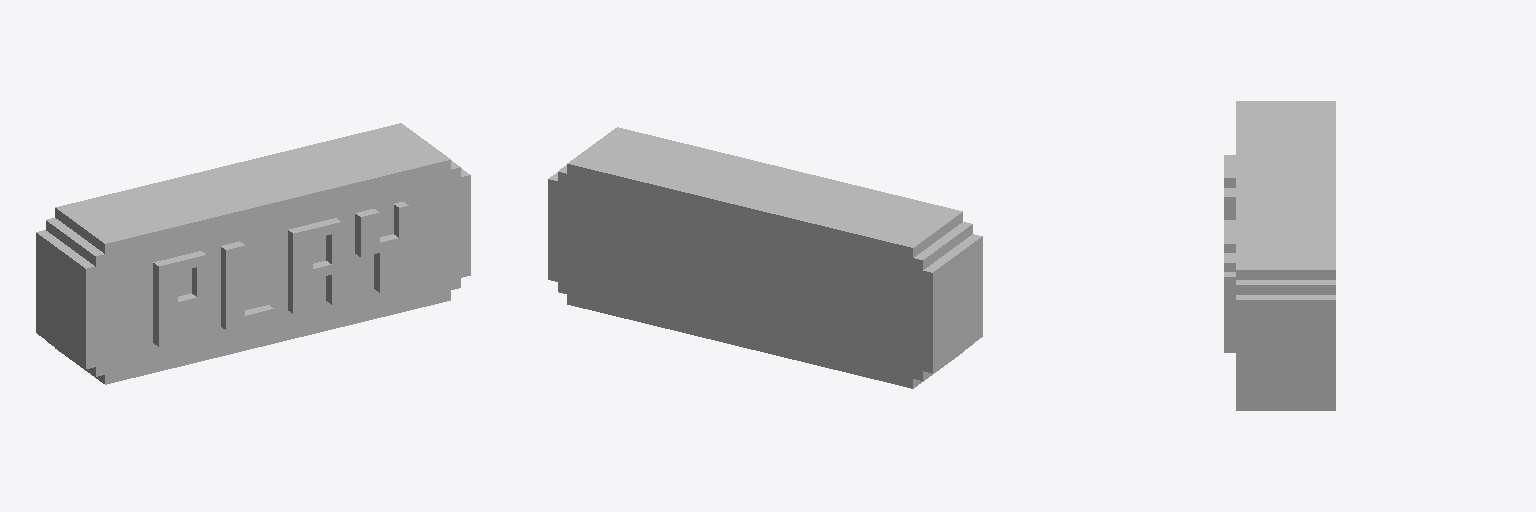
The model's file is Play.obj.
3 views of the same model, side by side, from view 1: azimuth 30°, elevation 25°; view 2: azimuth 150°, elevation 25°; view 3: azimuth 270°, elevation 25° (orthographic).
Visible parts, largest first — view 1: object 1; view 2: object 1; view 3: object 1.
Boxes of the visible parts, x1,y1,x2,y2 form: object 1: [36, 123, 470, 384]; object 1: [548, 127, 982, 388]; object 1: [1224, 101, 1335, 410].
Bounding box in the file's own units: 4 × 1.4 × 1.